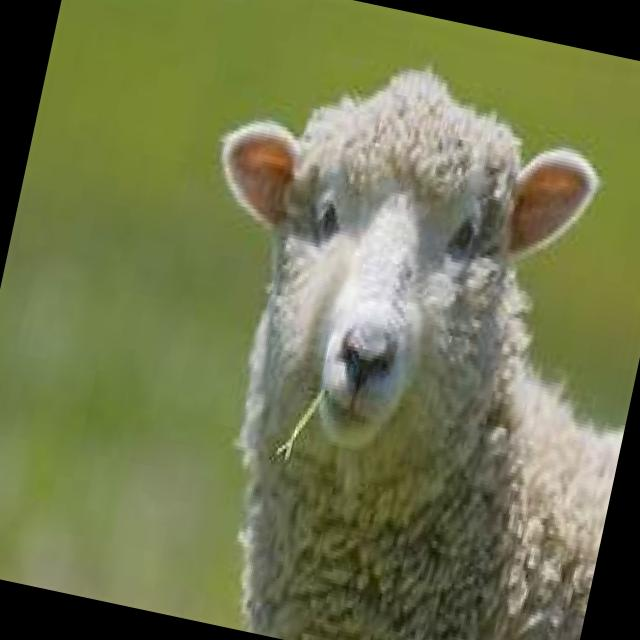animal: (123, 23, 640, 640)
